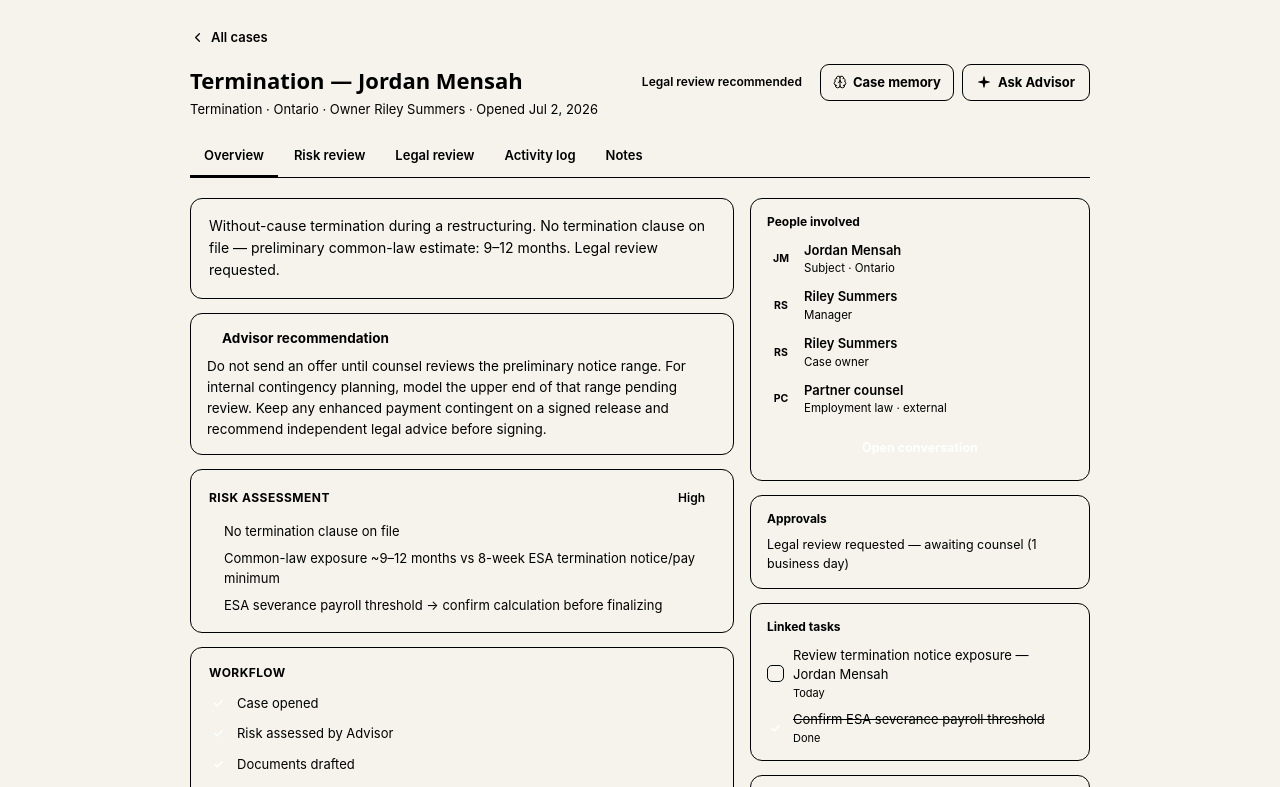
Scenario: CaseDetailView › Ask Advisor rail › opens the rail on the case subject with their context chips
The width and height of the screenshot is (1280, 787).
What coordinates should you click on to do the following:
click the button "Ask Advisor"
I would click on:
 (1026, 82)
Its box is 962,64 -> 1090,101.
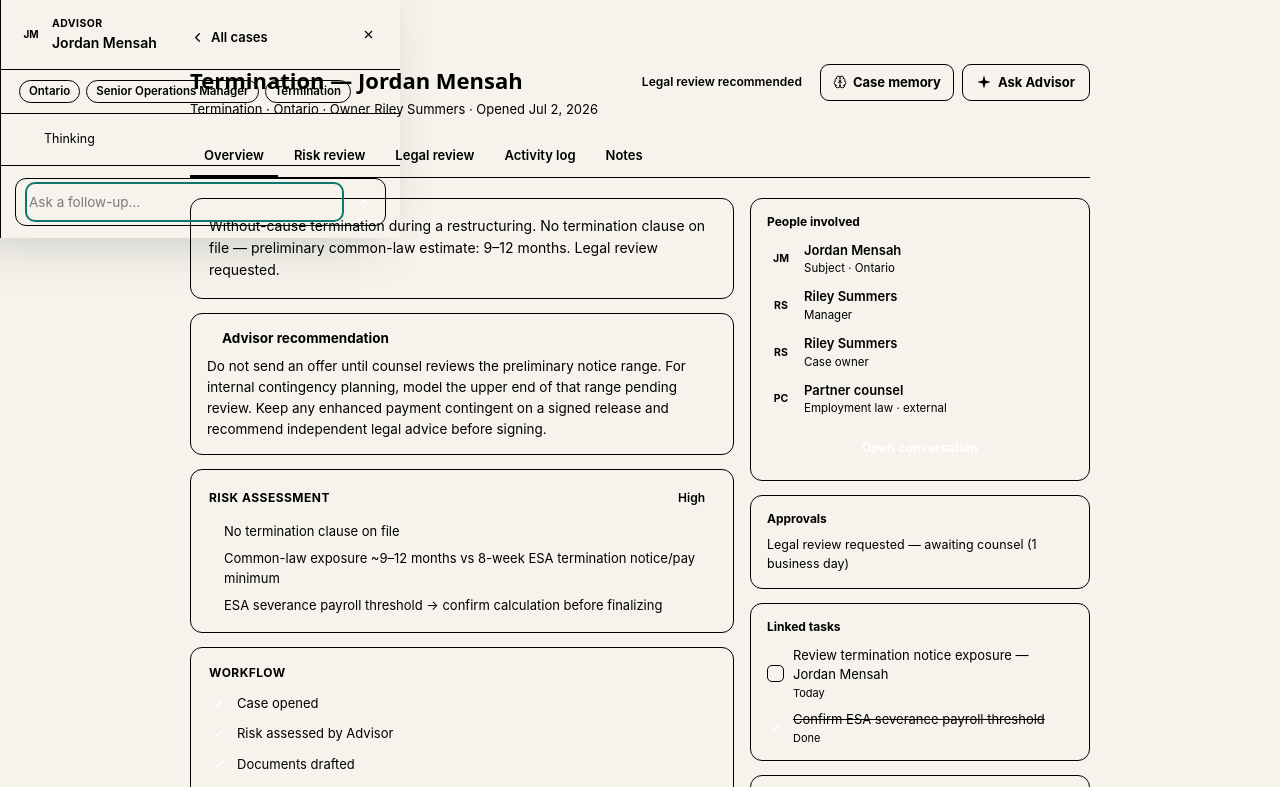
Check: the dialog named "Ask Advisor" is shown, box 0,0 -> 400,238
Check: the text "Jordan Mensah" is shown, box 52,32 -> 157,53
Check: the text "Ontario" is shown, box 19,80 -> 80,103
